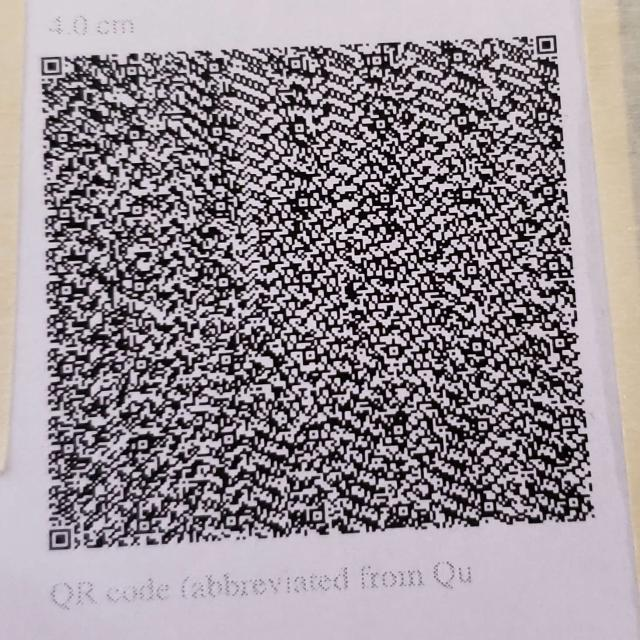QR_CODE: (21, 18, 611, 581)
